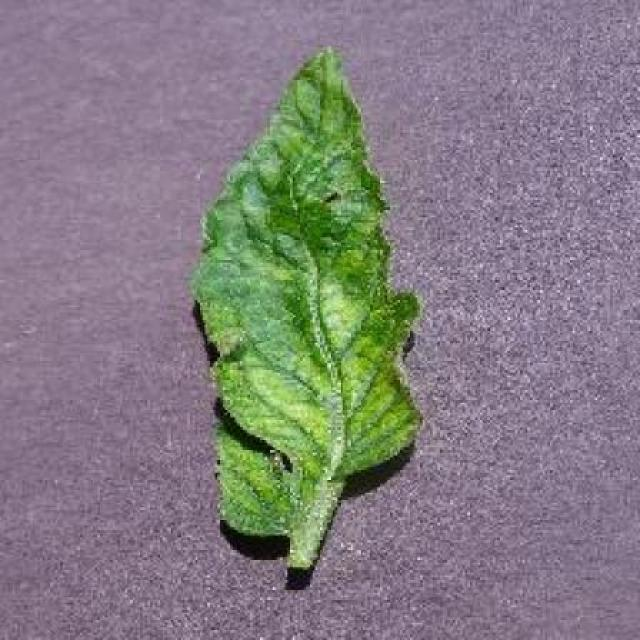Mosaic Virus: (190, 36, 429, 538)
